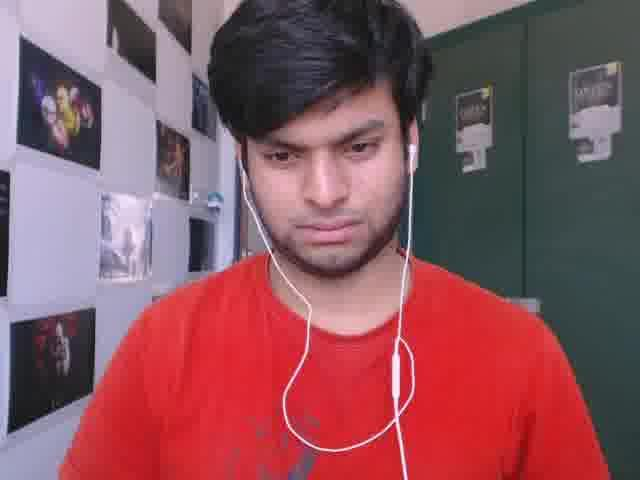bingung: (245, 78, 405, 275)
